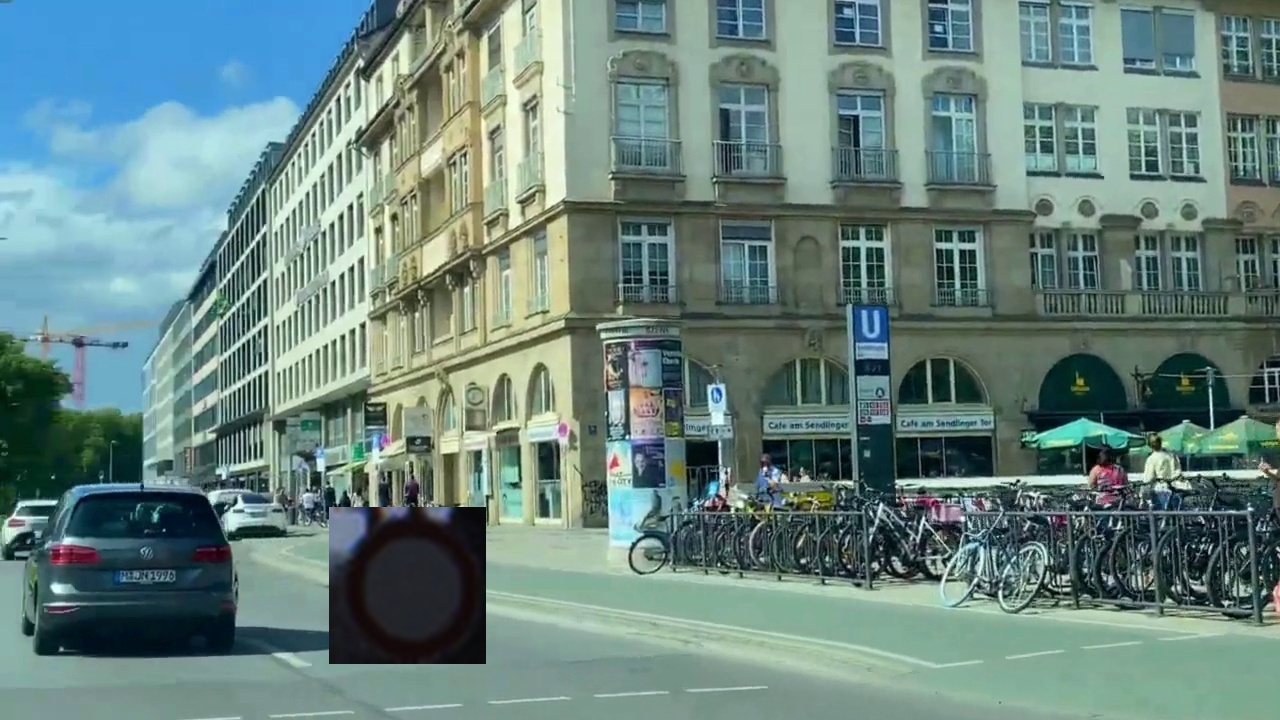No vehicles: (329, 507, 486, 664)
